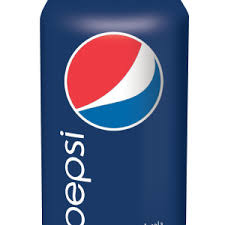pepsi: (38, 1, 186, 225)
